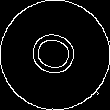O_E: (24, 27, 86, 83)
